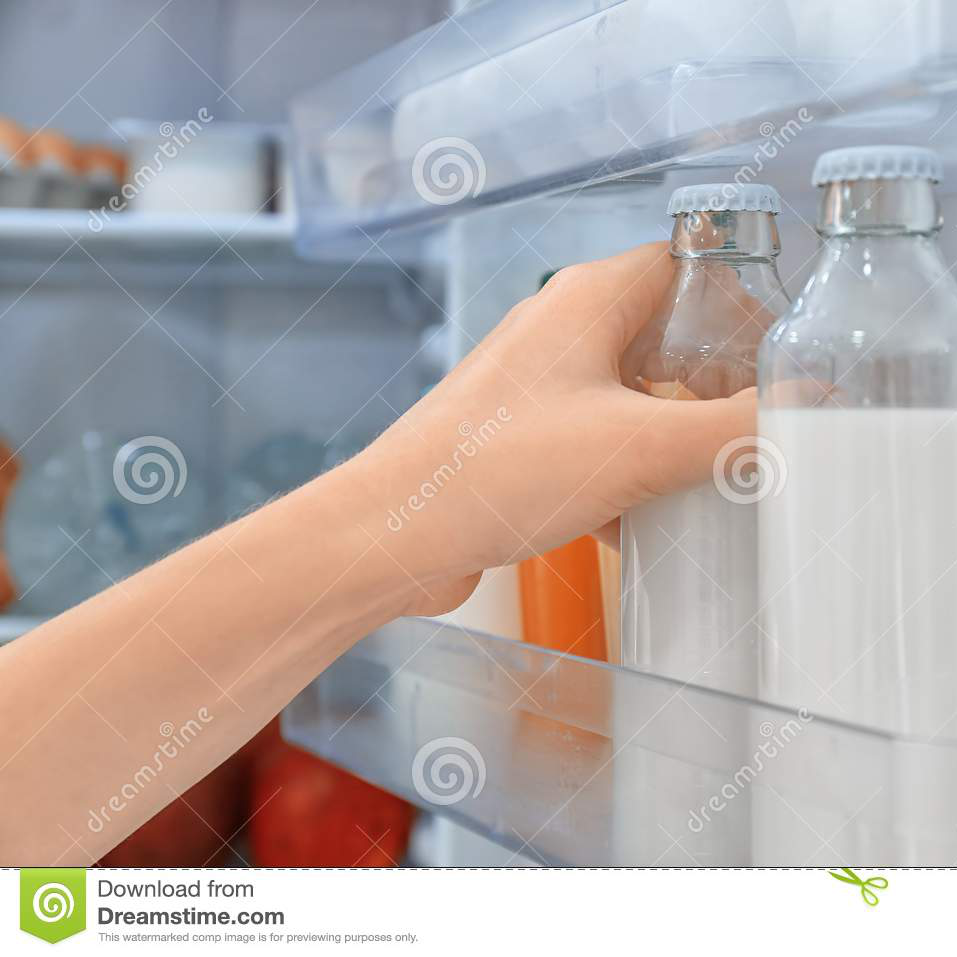milk: (756, 143, 955, 868), (617, 182, 802, 869)
